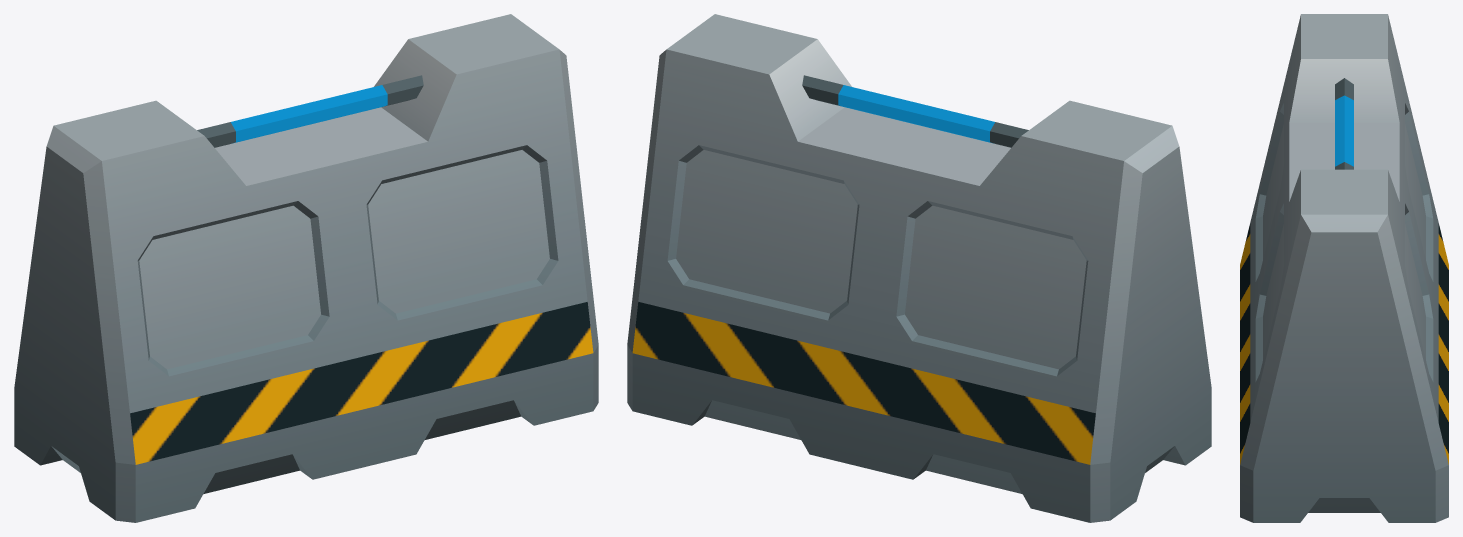
The model's file is Barriaer_002.glb.
The picture shows the model from 3 angles, left to right: view 1: azimuth 30°, elevation 25°; view 2: azimuth 150°, elevation 25°; view 3: azimuth 270°, elevation 25°; orthographic projection. The views are drawn at different scales.
Parts seen in each view (by area): view 1: Barriaer_002; view 2: Barriaer_002; view 3: Barriaer_002.
Boxes of the visible parts, bbox=[...] form: Barriaer_002: bbox=[14, 14, 598, 522]; Barriaer_002: bbox=[627, 14, 1211, 522]; Barriaer_002: bbox=[1240, 14, 1448, 522].
Size of the model in its own units: 1.2 by 0.8 by 0.5.
2 materials, 2 textured.
